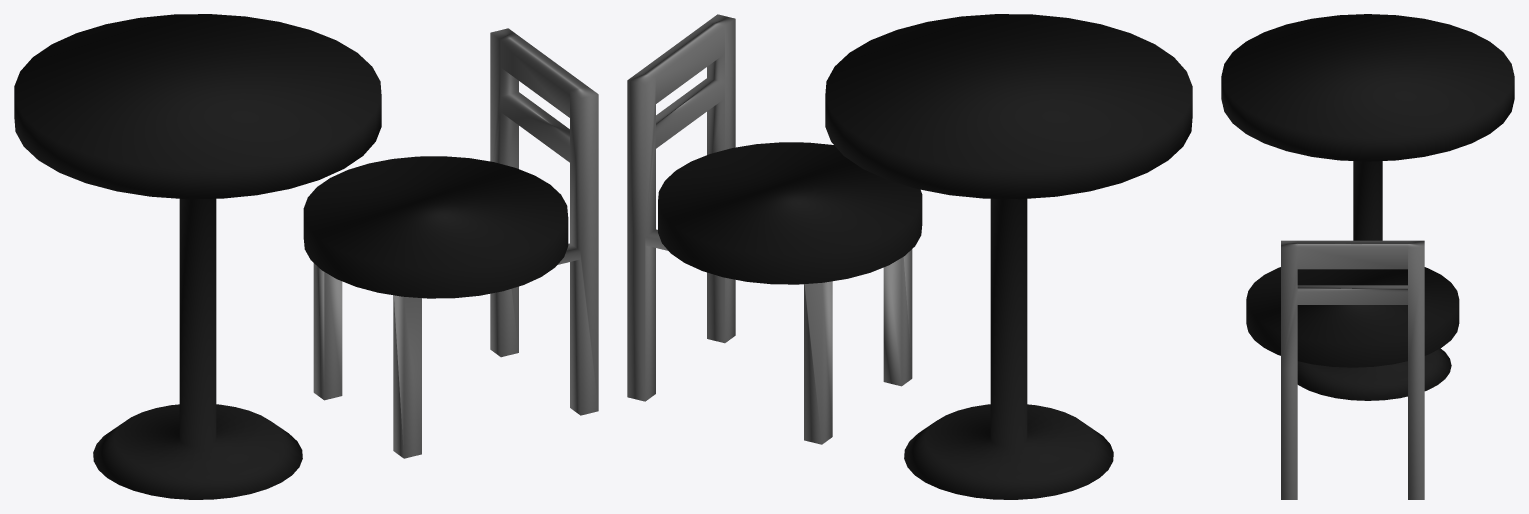
File: コンパクトダイニングセット.fbx
3 renders of one model, left to right at view 1: azimuth 30°, elevation 25°; view 2: azimuth 150°, elevation 25°; view 3: azimuth 270°, elevation 25°, orthographic. The views are drawn at different scales.
Visible parts, largest first — view 1: CDS_テーブル, CDS_チェア; view 2: CDS_テーブル, CDS_チェア; view 3: CDS_テーブル, CDS_チェア.
Boxes of the visible parts, bbox=[...] form: CDS_テーブル: bbox=[14, 14, 381, 499]; CDS_チェア: bbox=[303, 28, 598, 458]; CDS_テーブル: bbox=[825, 14, 1192, 499]; CDS_チェア: bbox=[627, 14, 922, 444]; CDS_テーブル: bbox=[1221, 14, 1514, 400]; CDS_チェア: bbox=[1246, 240, 1459, 499].
Bounding box in the file's own units: 87.18 × 55 × 60.
